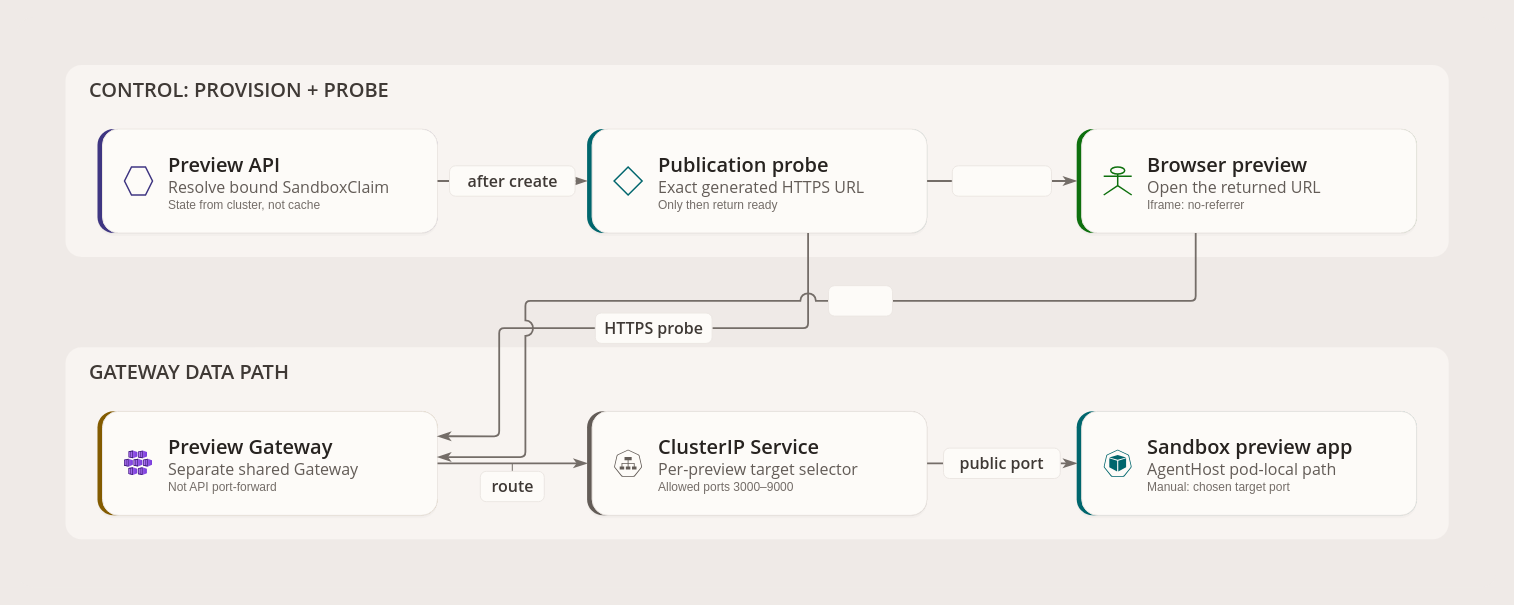
Some shapes in this 1514 by 605 pixel diagram are drawn without their labels. The shapes that lost their labels are listed below. From the top down, each one's box as (x1, y1, x2, y2) in pixels, then its label:
(951, 165, 1052, 196): ready URL
(828, 285, 892, 316): HTTPS
